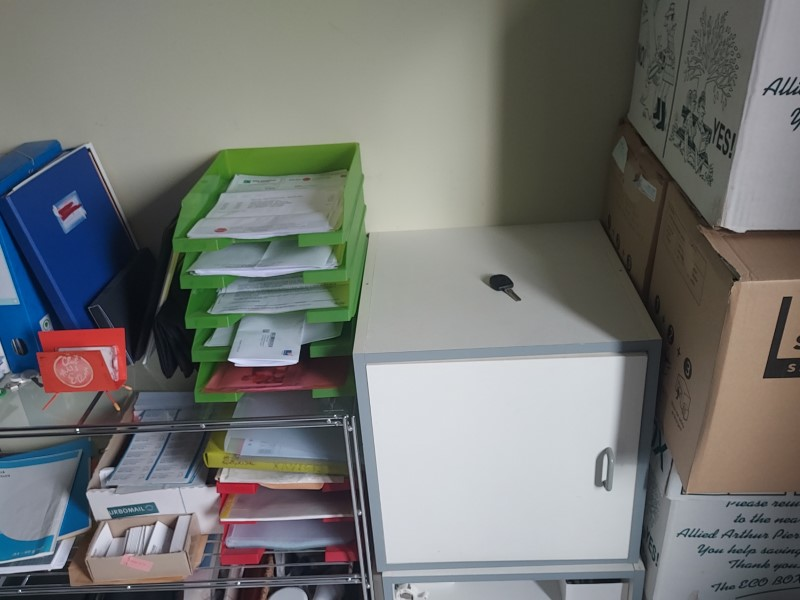key: (485, 273, 520, 302)
